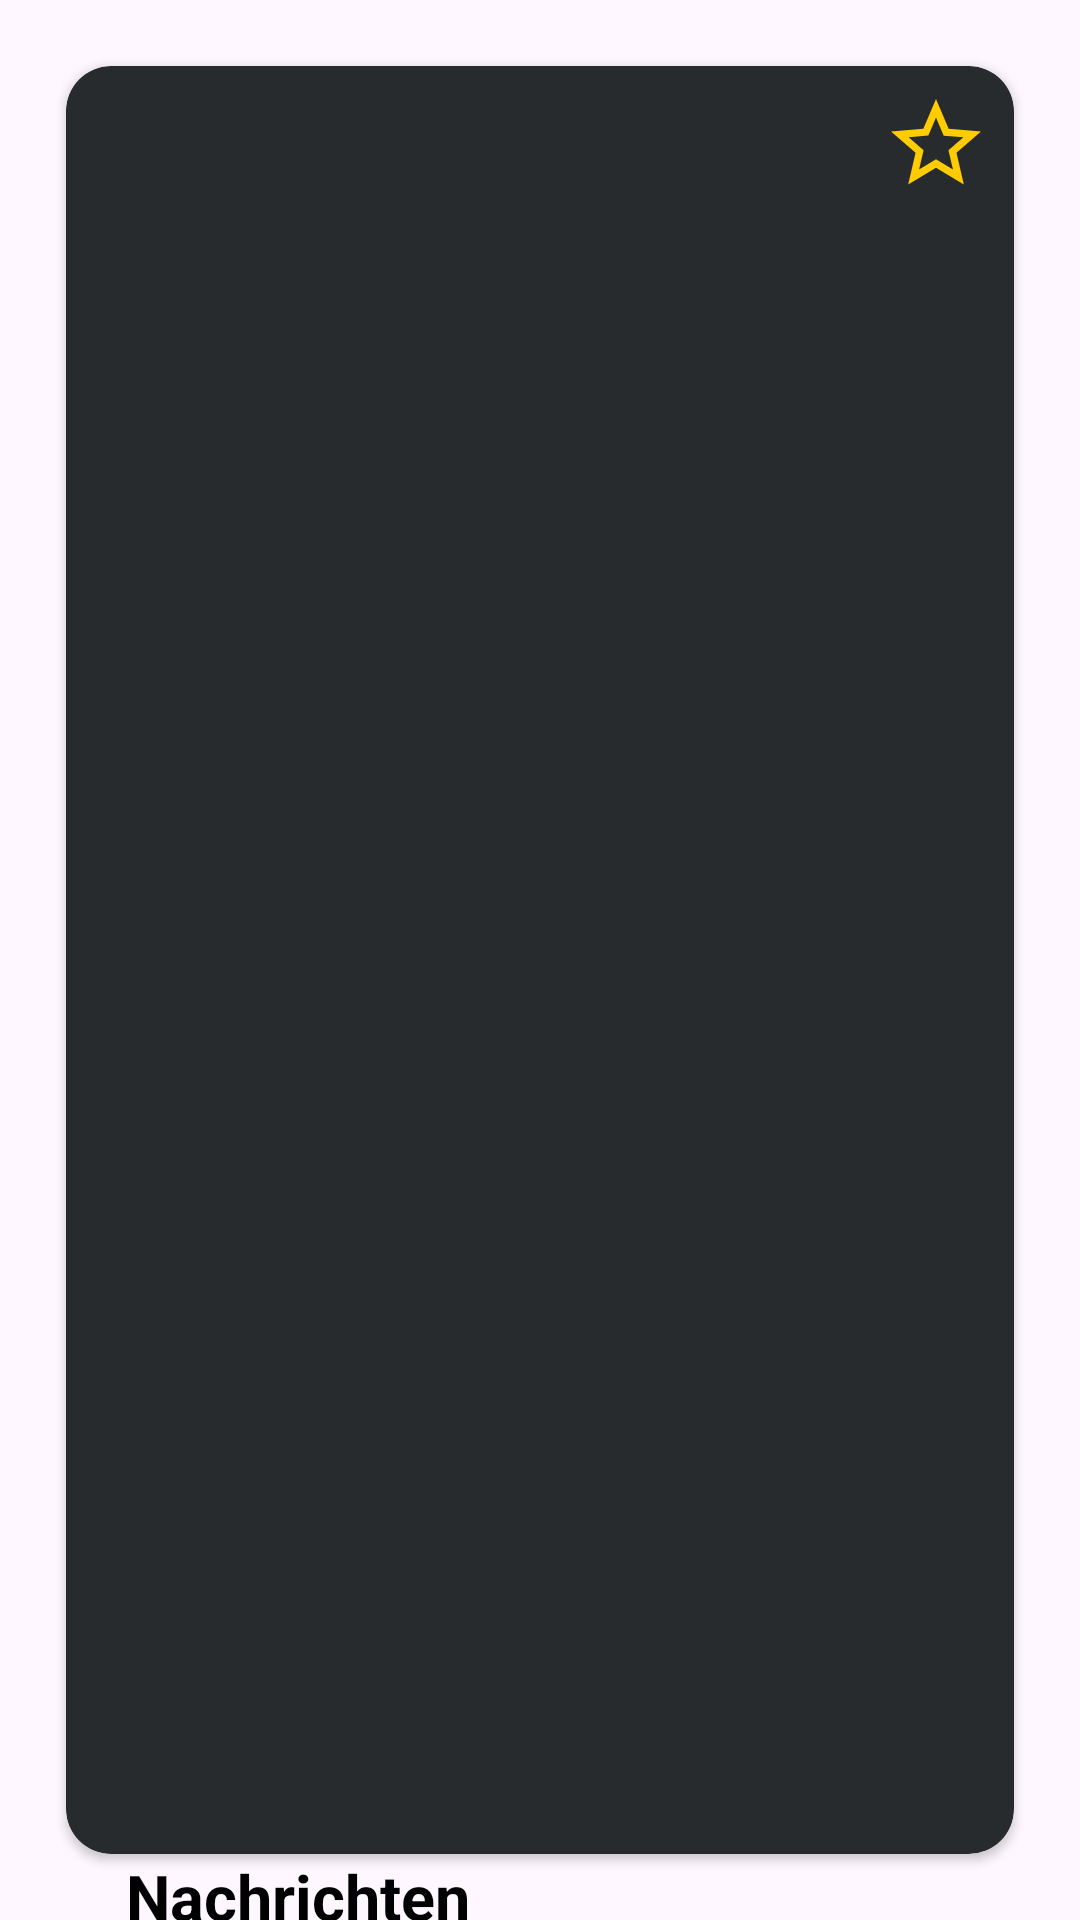

Where to tap for icons on this 1080px x 1920px app screen, as (x,y):
star: (936,142)
